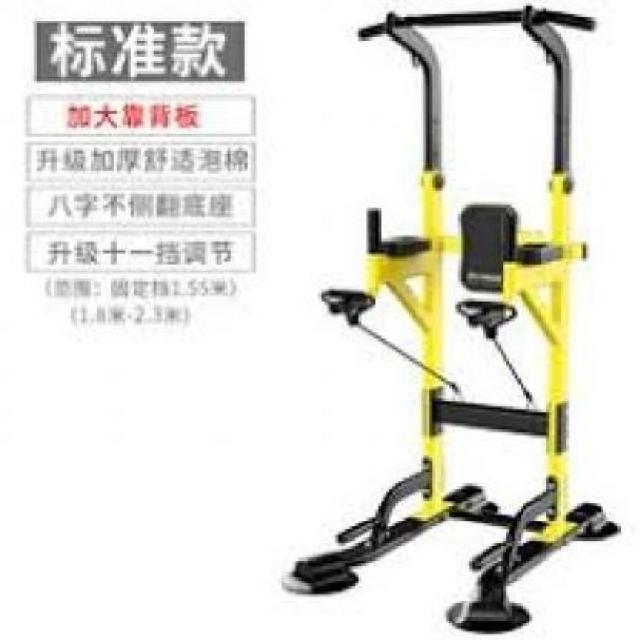chinning dipping: (280, 8, 620, 634)
